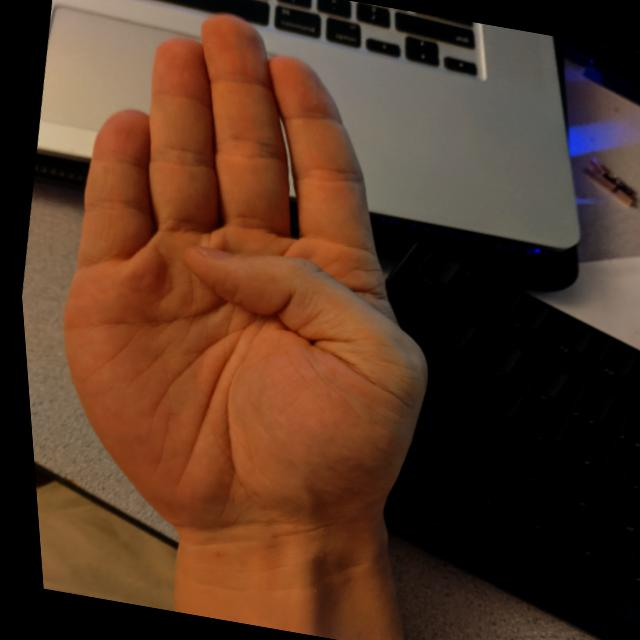B: (0, 0, 505, 584)
